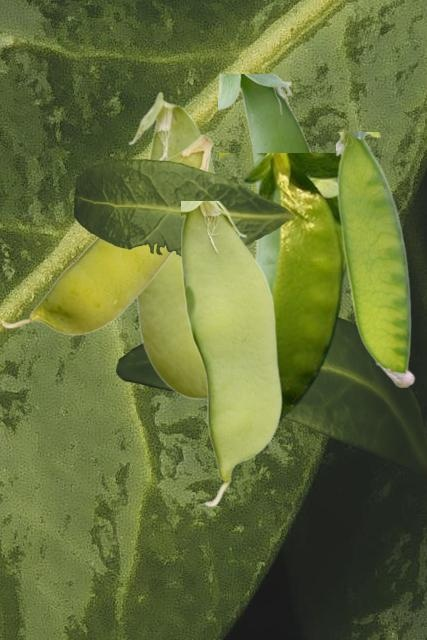pea: (1, 134, 212, 334), (219, 153, 346, 425), (181, 201, 281, 506), (127, 91, 215, 400), (336, 132, 414, 386), (218, 74, 311, 283)
